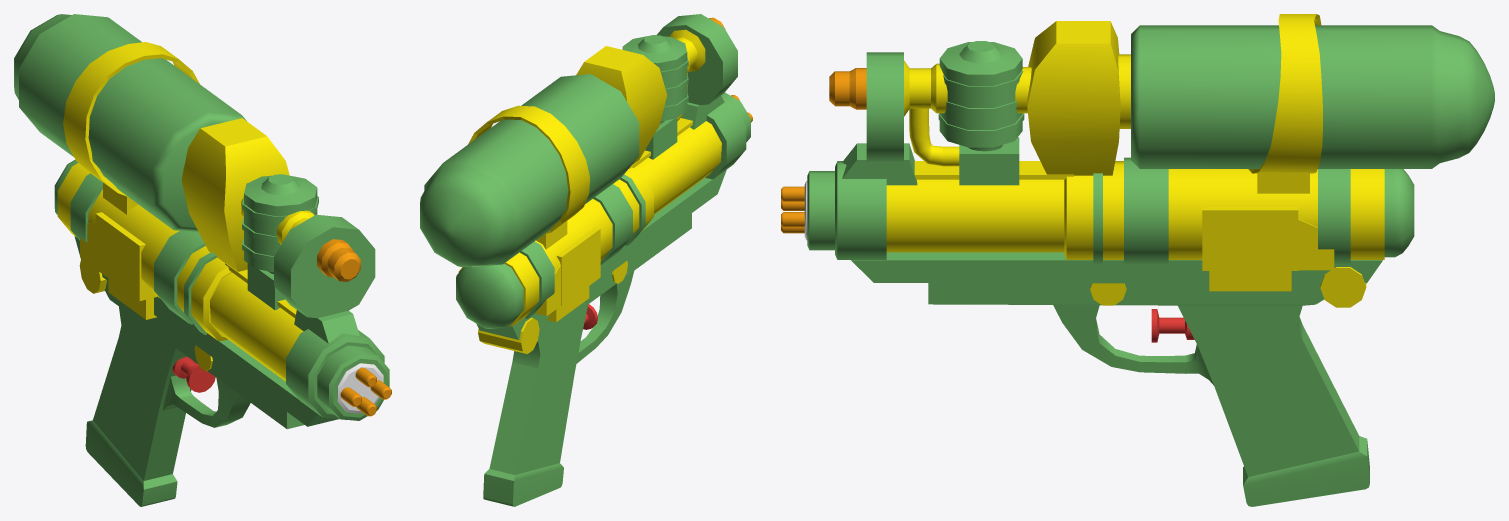
Rendered from Prize_Water_Gun.fbx.
The picture shows the model from 3 angles, left to right: view 1: azimuth 30°, elevation 25°; view 2: azimuth 150°, elevation 25°; view 3: azimuth 270°, elevation 25°; orthographic projection. The views are drawn at different scales.
Visible parts, largest first — view 1: WaterGun; view 2: WaterGun; view 3: WaterGun.
Part boxes in pixels (x1,y1,x2,y2): WaterGun: (14,14,391,506); WaterGun: (420,14,752,506); WaterGun: (781,14,1494,506).
Bounding box in the file's own units: 6.51 × 22.34 × 30.27.
